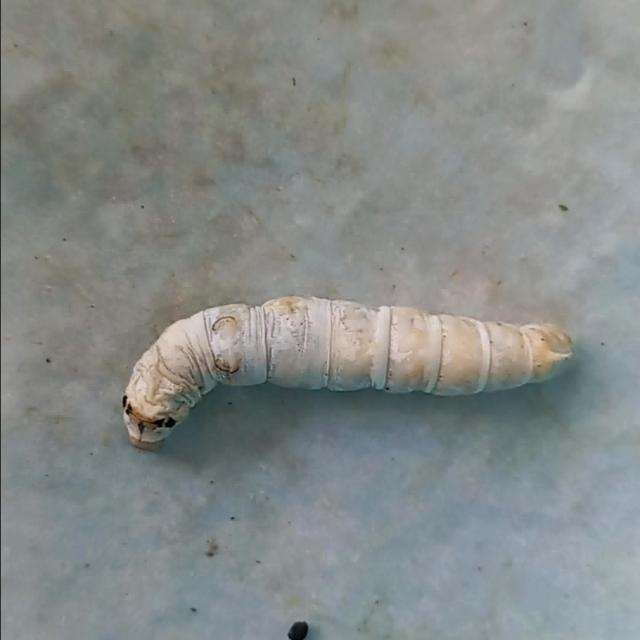Grasserie: (114, 265, 582, 459)
